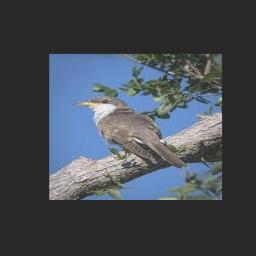Cuckoo: (74, 97, 190, 169)
